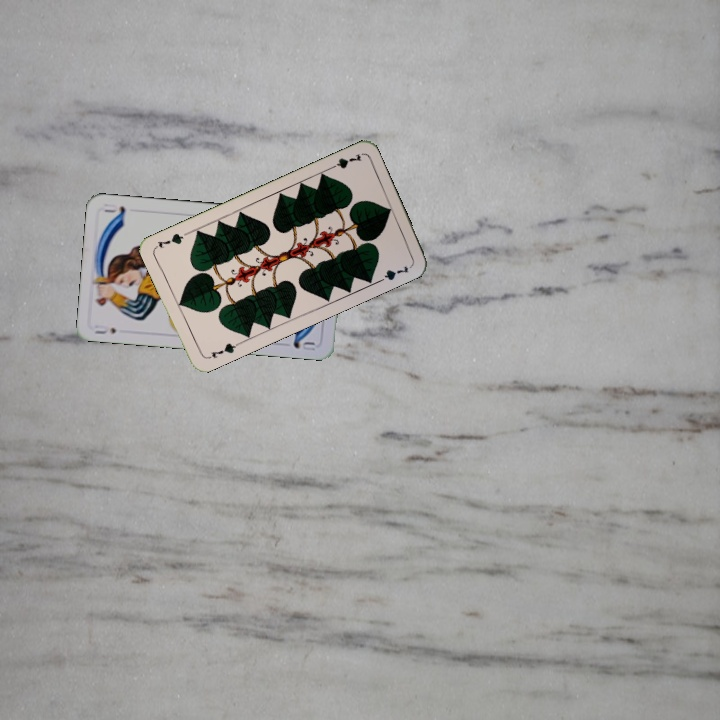G7: (324, 150, 364, 173), (203, 339, 241, 361)
SU: (90, 321, 119, 337)
